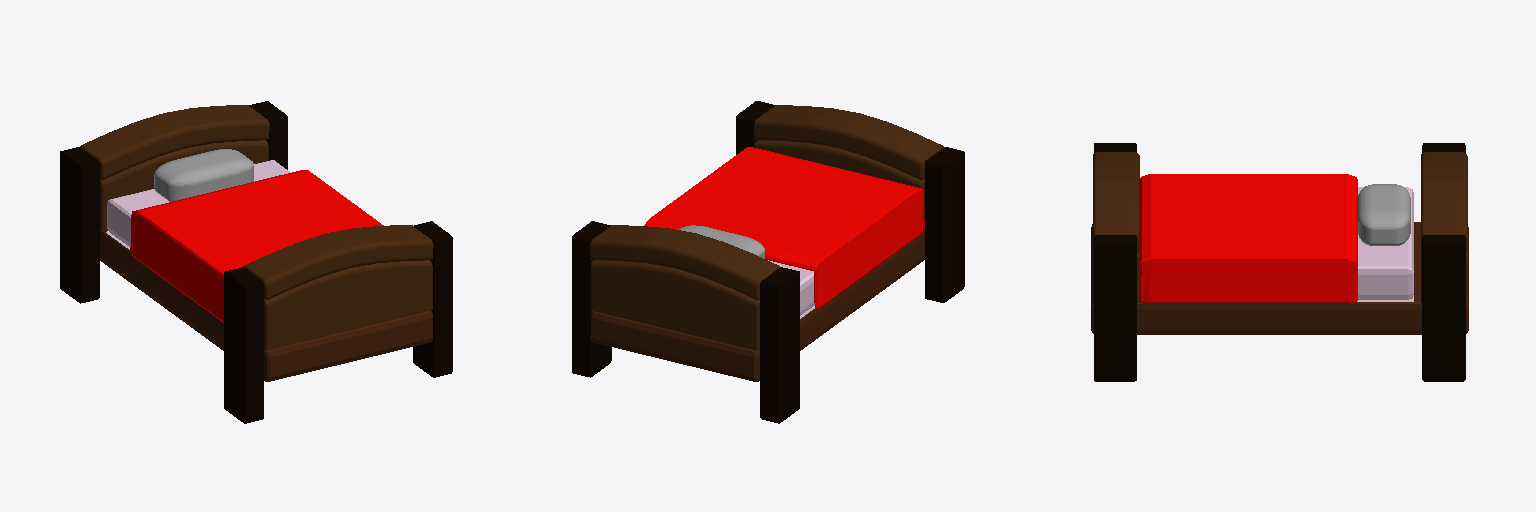
Rendered from letto.obj.
3 views of the same model, side by side, from view 1: azimuth 30°, elevation 25°; view 2: azimuth 150°, elevation 25°; view 3: azimuth 270°, elevation 25° (orthographic).
Visible parts, largest first — view 1: Plane.001, Plane.003, Plane.002, Plane.004, Cube_Cube.001, Plane.005; view 2: Plane.001, Plane.003, Plane.002, Plane.004, Cube_Cube.001, Plane.005; view 3: Plane.003, Plane.002, Plane.004, Plane.001, Plane.005, Cube_Cube.001.
Boxes of the visible parts, x1,y1,x2,y2 form: Plane.001: [80, 105, 433, 349]; Plane.003: [130, 170, 383, 322]; Plane.002: [60, 101, 452, 423]; Plane.004: [100, 229, 432, 381]; Cube_Cube.001: [154, 149, 253, 201]; Plane.005: [106, 160, 290, 249]; Plane.001: [590, 105, 943, 350]; Plane.003: [644, 147, 924, 308]; Plane.002: [572, 101, 964, 423]; Plane.004: [591, 230, 924, 381]; Cube_Cube.001: [678, 225, 764, 258]; Plane.005: [768, 260, 814, 318]; Plane.003: [1140, 174, 1357, 303]; Plane.002: [1094, 143, 1465, 381]; Plane.004: [1091, 222, 1468, 334]; Plane.001: [1093, 152, 1467, 302]; Plane.005: [1357, 187, 1413, 301]; Cube_Cube.001: [1358, 184, 1410, 245].
Bounding box in the file's own units: 2.17 × 1.5 × 3.41.